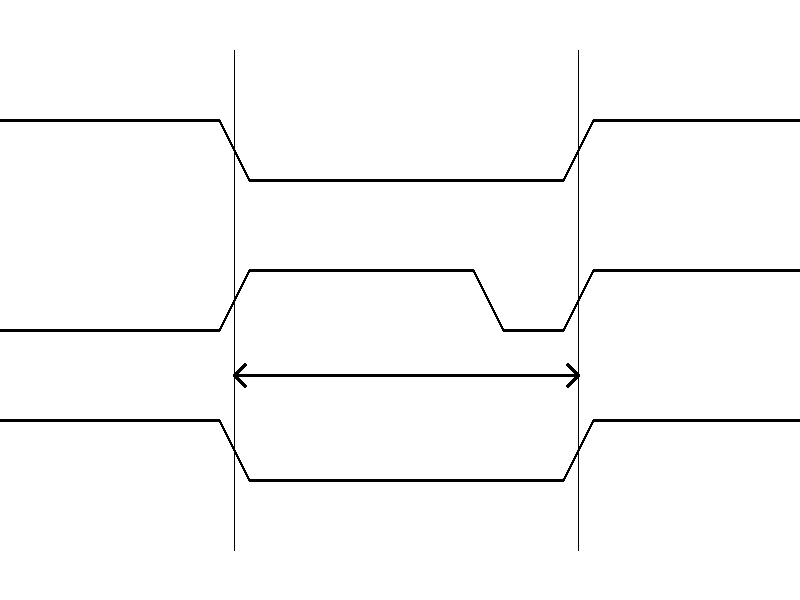double_arrow: (234, 360, 578, 390)
